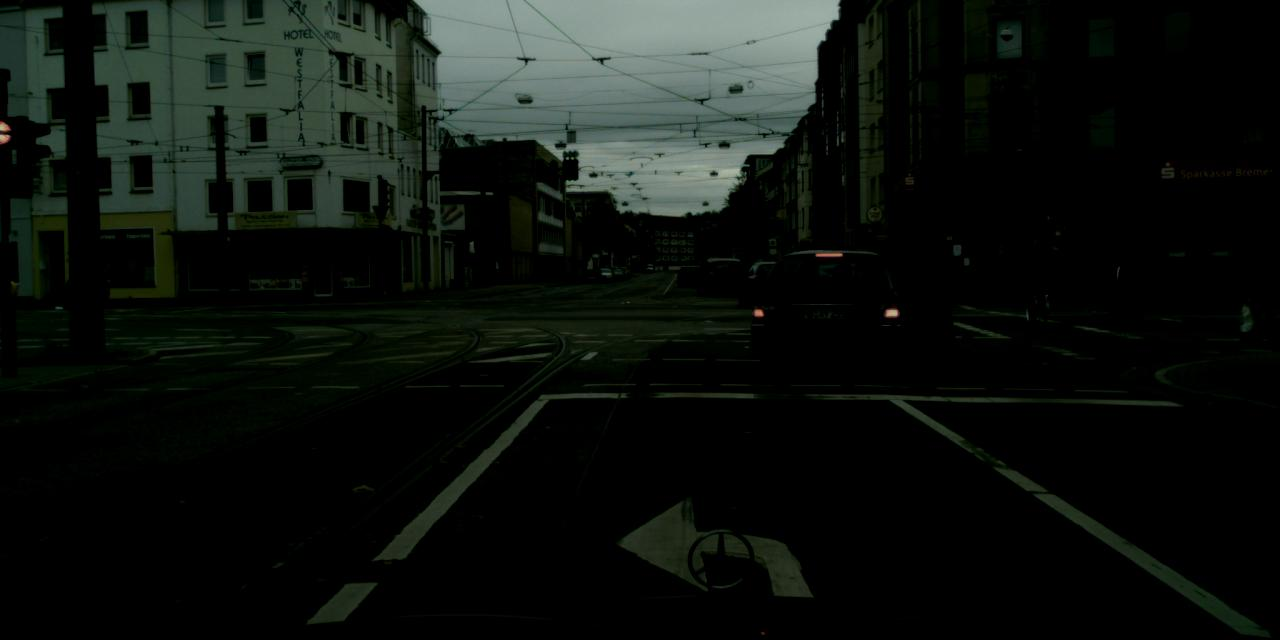ped: (1246, 240, 1278, 342), (1022, 238, 1052, 310), (997, 244, 1020, 300)
